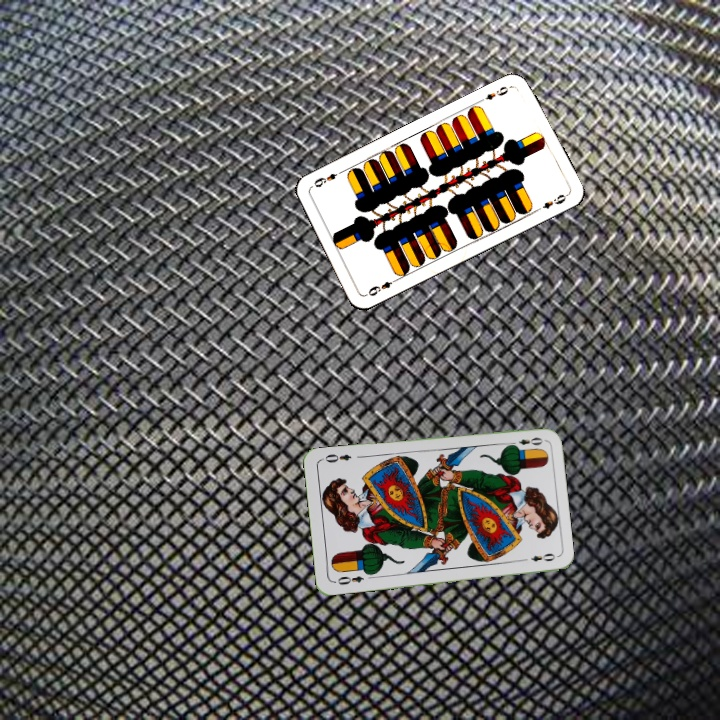E9: (477, 81, 515, 104), (364, 275, 401, 298)
EO: (505, 433, 545, 450), (330, 572, 366, 588)
